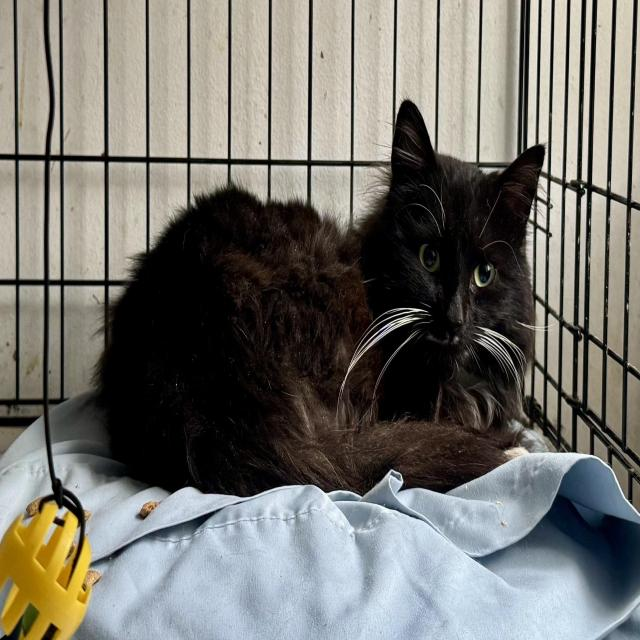maine_coon_cat: (342, 92, 552, 411)
